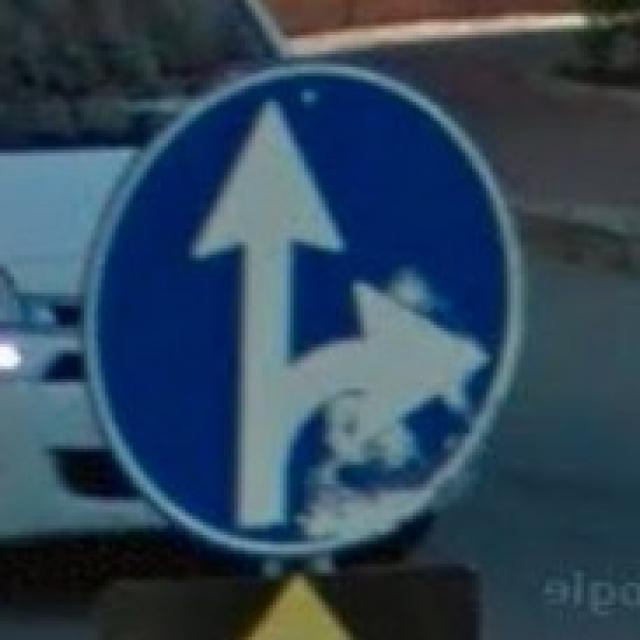Straight or Right: (85, 67, 505, 554)
